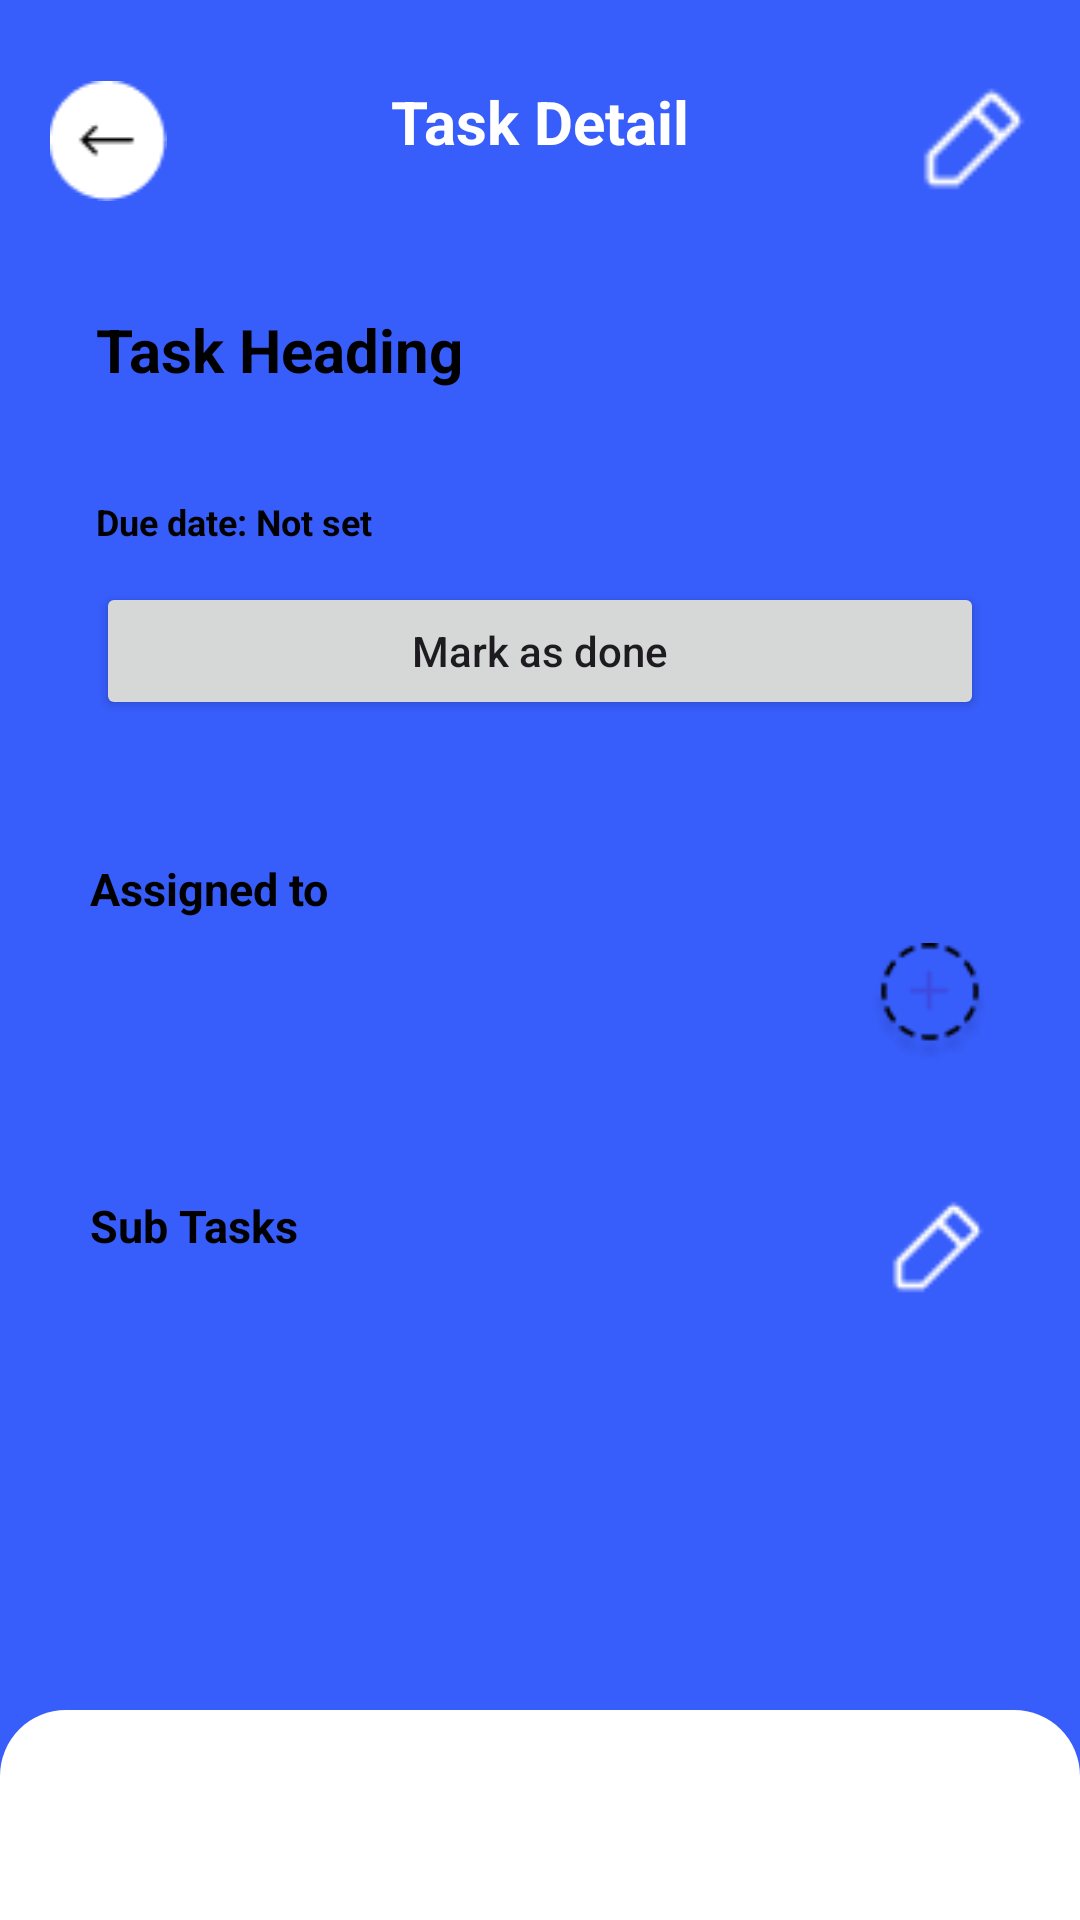

Icons on this 1080 × 1920 Android screen, each with the point to tap as point (x, y):
add dotted: point (930, 992)
back arrow: point (108, 141)
edit pen: point (973, 139), point (937, 1247)
